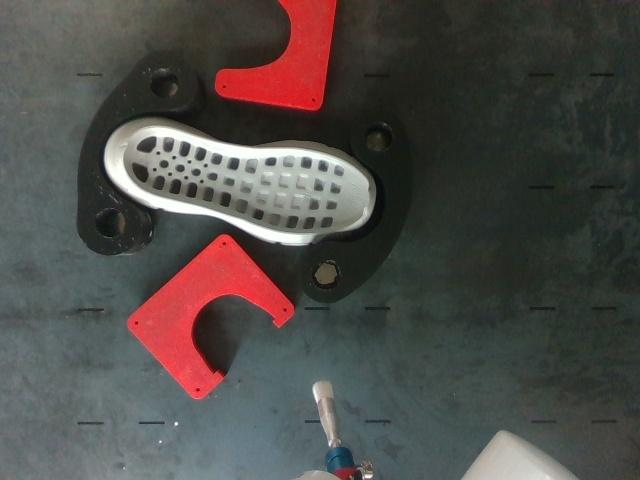shoes: (124, 126, 368, 234)
